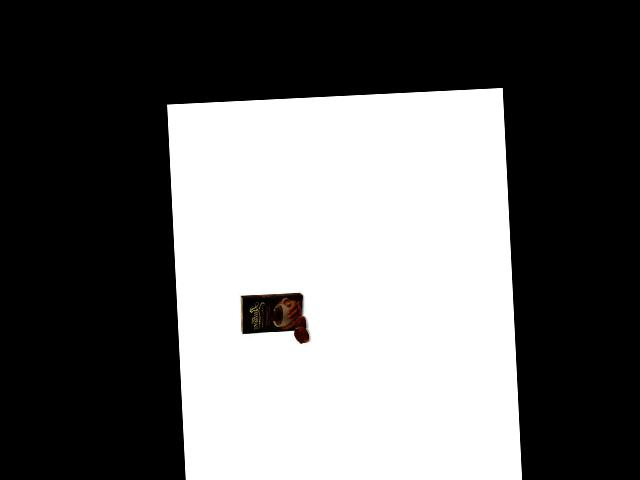chocolate: (237, 290, 306, 339)
